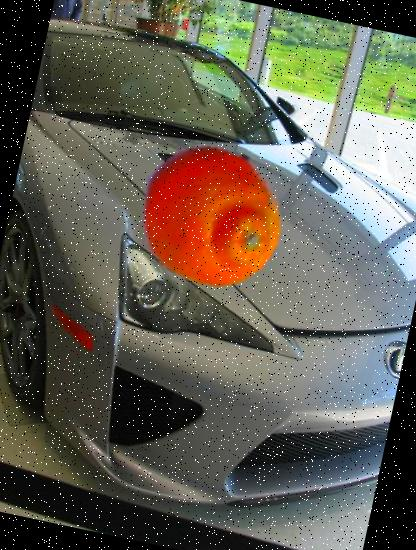Tangelo: (124, 128, 298, 302)
